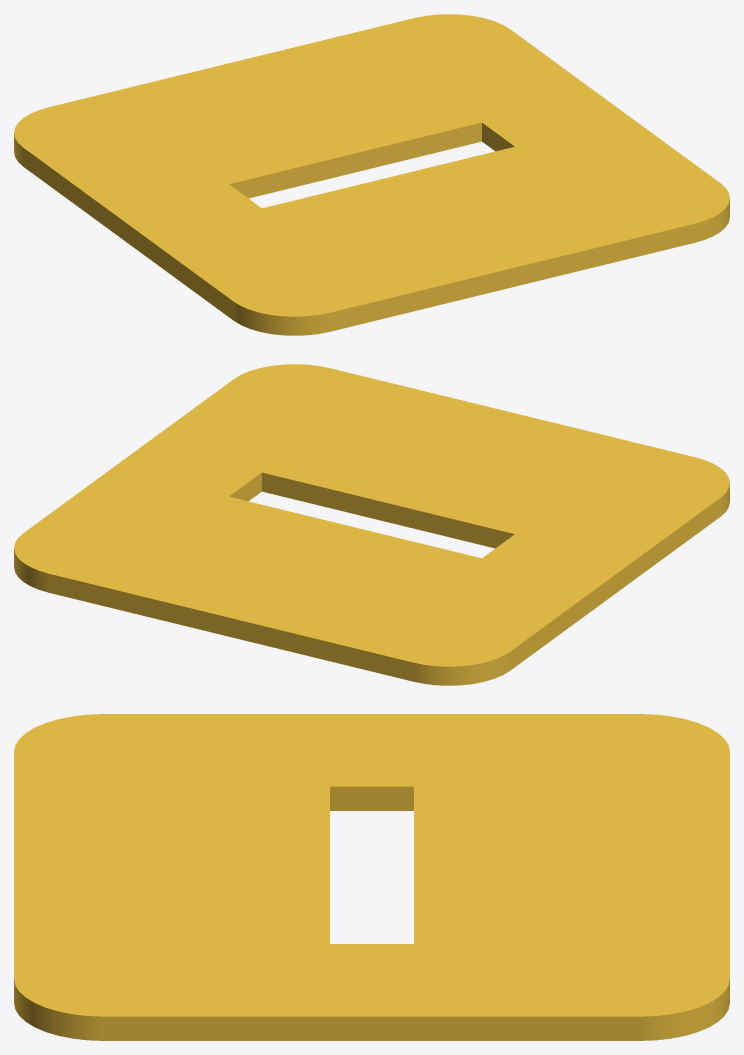
File: implant_support.dae
3 renders of one model, top to bottom at view 1: azimuth 30°, elevation 25°; view 2: azimuth 150°, elevation 25°; view 3: azimuth 270°, elevation 25°, orthographic. The views are drawn at different scales.
Visible parts, largest first — view 1: Silicone; view 2: Silicone; view 3: Silicone.
Boxes of the visible parts, bbox=[...] form: Silicone: bbox=[14, 14, 729, 335]; Silicone: bbox=[14, 364, 729, 685]; Silicone: bbox=[14, 714, 729, 1040].
Size of the model in its own units: 0.04 by 0.04 by 0.0015.
